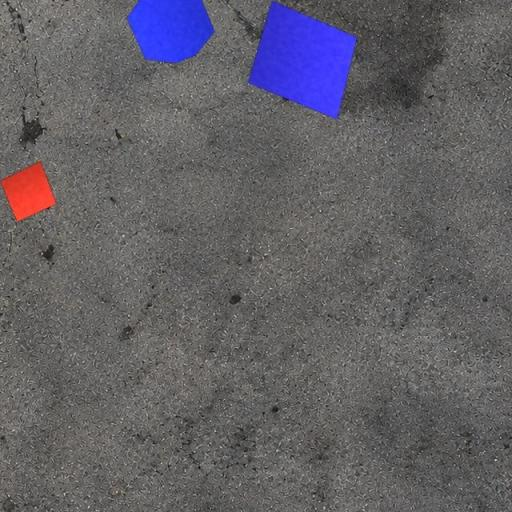BLUE_SQUARE: (247, 0, 358, 120)
RED_SQUARE: (0, 160, 58, 222)
